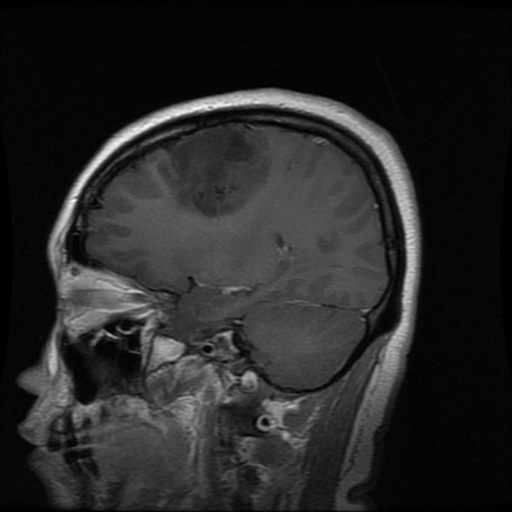glioma: (171, 124, 271, 216)
